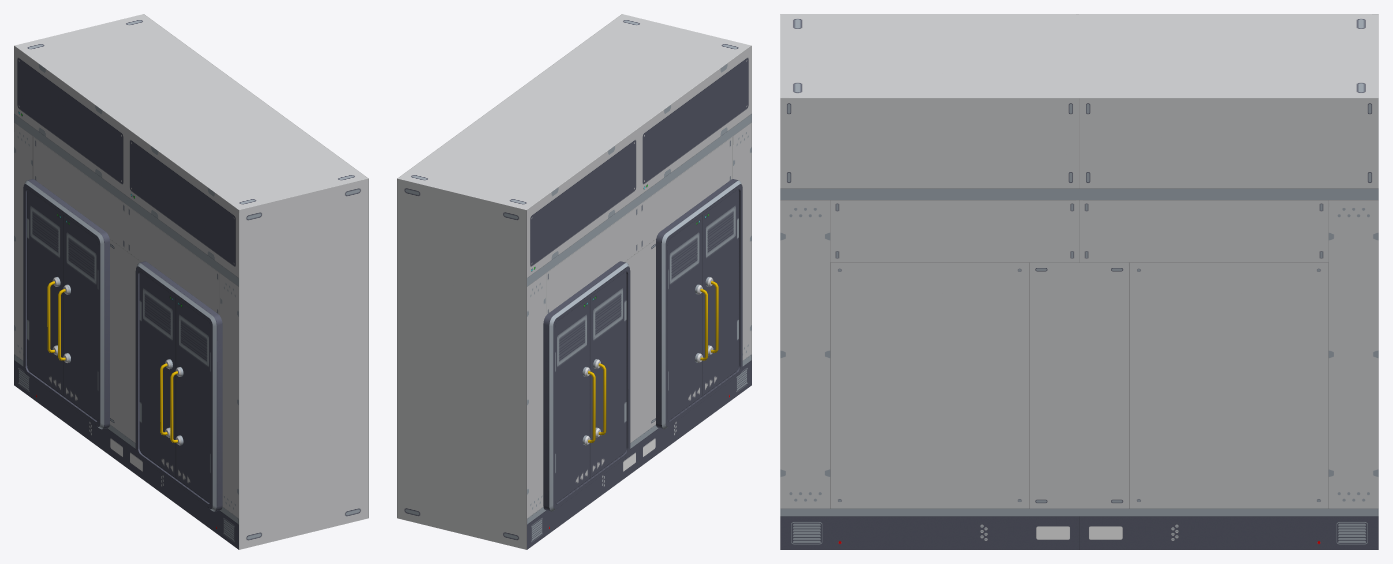
File: Wall_Normal_Simple_05_B.FBX
3 renders of one model, left to right at view 1: azimuth 30°, elevation 25°; view 2: azimuth 150°, elevation 25°; view 3: azimuth 270°, elevation 25°, orthographic. The views are drawn at different scales.
Visible parts, largest first — view 1: Wall_Normal_Simple_05_B, Door_B, Door_D, Door_C, Door_A; view 2: Wall_Normal_Simple_05_B, Door_A, Door_C, Door_B, Door_D; view 3: Wall_Normal_Simple_05_B.
Boxes of the visible parts, x1,y1,x2,y2 form: Wall_Normal_Simple_05_B: (14, 14, 368, 549); Door_B: (58, 215, 98, 421); Door_D: (170, 298, 210, 503); Door_C: (139, 272, 175, 478); Door_A: (27, 189, 63, 395); Wall_Normal_Simple_05_B: (397, 14, 751, 549); Door_A: (555, 298, 595, 503); Door_C: (668, 215, 707, 421); Door_B: (590, 271, 626, 478); Door_D: (702, 189, 738, 395); Wall_Normal_Simple_05_B: (780, 14, 1378, 549).
Size of the model in its own units: 2.27 by 5 by 6.
